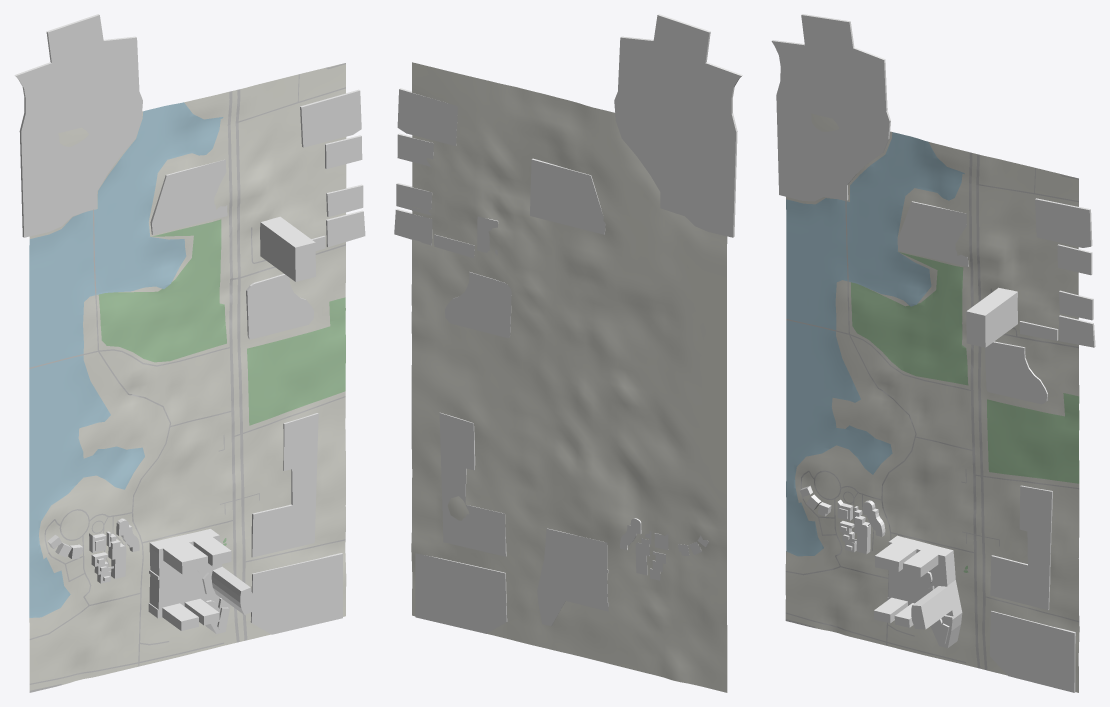
File: baijiahu_3D_modeling.glb
3 views of the same model, side by side, from view 1: azimuth 30°, elevation 25°; view 2: azimuth 150°, elevation 25°; view 3: azimuth 330°, elevation 25° (orthographic). The views are drawn at different scales.
Visible parts, largest first — view 1: TPX_Ground, TPX_Buildings, TPX_Waterways_1, TPX_GreenAreas, TPX_RoadsOutlines; view 2: TPX_Ground, TPX_Buildings; view 3: TPX_Ground, TPX_Buildings, TPX_Waterways_1, TPX_GreenAreas, TPX_RoadsOutlines.
Boxes of the visible parts, bbox=[...] form: TPX_Ground: bbox=[29, 63, 346, 690]; TPX_Buildings: bbox=[14, 14, 365, 634]; TPX_Waterways_1: bbox=[29, 102, 223, 617]; TPX_GreenAreas: bbox=[98, 219, 345, 545]; TPX_RoadsOutlines: bbox=[29, 63, 345, 692]; TPX_Ground: bbox=[411, 62, 727, 692]; TPX_Buildings: bbox=[394, 14, 742, 633]; TPX_Ground: bbox=[785, 113, 1079, 692]; TPX_Buildings: bbox=[771, 14, 1095, 692]; TPX_Waterways_1: bbox=[786, 132, 964, 556]; TPX_GreenAreas: bbox=[851, 252, 1079, 572]; TPX_RoadsOutlines: bbox=[785, 152, 1079, 670].
Bounding box in the file's own units: 855 × 1552 × 165.
